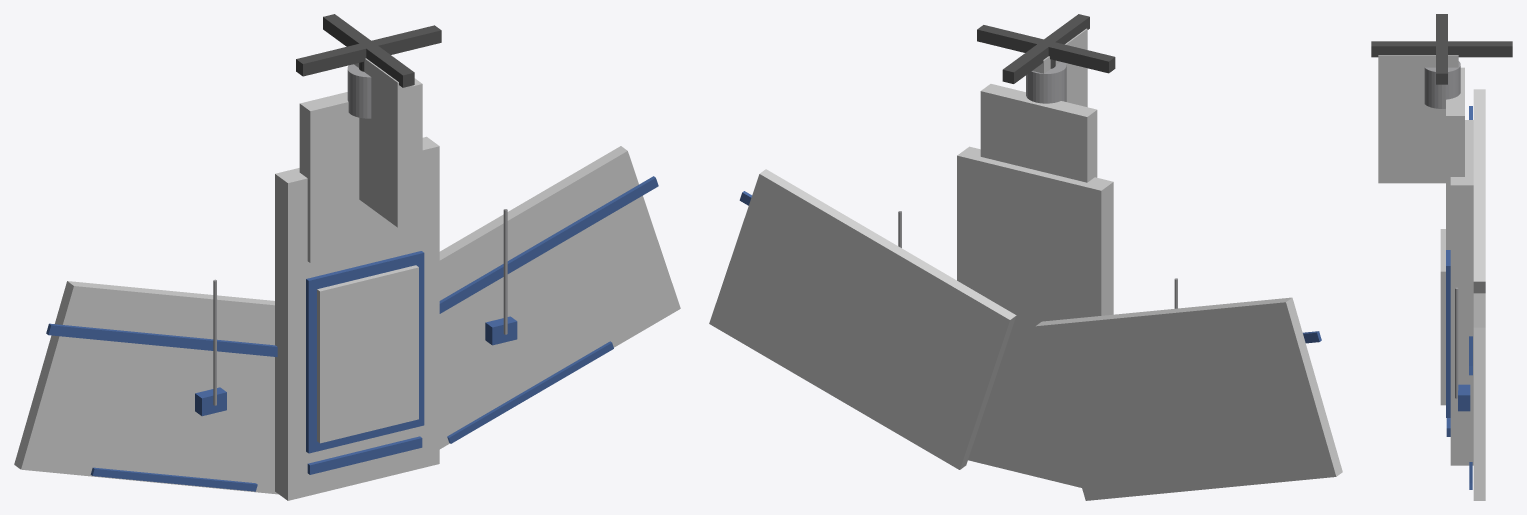
The model's file is rc_aircraft_3d_model.glb.
The picture shows the model from 3 angles, left to right: view 1: azimuth 30°, elevation 25°; view 2: azimuth 150°, elevation 25°; view 3: azimuth 270°, elevation 25°; orthographic projection. The views are drawn at different scales.
Parts seen in each view (by area): view 1: left_wing, right_wing, center_body, hatch_inner, rear_body, vertical_fin, hatch_frame, right_blue_trim, left_blue_trim, prop_blade_horizontal, prop_blade_vertical, right_control_trim (+4 smaller); view 2: right_wing, left_wing, center_body, rear_body, prop_blade_horizontal, prop_blade_vertical, motor, vertical_fin; view 3: vertical_fin, center_body, right_wing, left_wing, prop_blade_vertical, rear_body, motor, hatch_inner, prop_blade_horizontal, hatch_frame, linkage_220, servo_220.
Boxes of the visible parts, x1,y1,x2,y2 form: left_wing: (14,281,278,494); right_wing: (439,146,680,449); center_body: (275,136,439,500); hatch_inner: (317,265,418,443); rear_body: (299,78,422,263); vertical_fin: (354,58,412,227); hatch_frame: (306,251,424,453); right_blue_trim: (439,176,658,313); left_blue_trim: (46,323,277,356); prop_blade_horizontal: (296,25,441,76); prop_blade_vertical: (323,14,414,87); right_control_trim: (447,341,613,443); right_wing: (709,169,1016,469); left_wing: (1035,297,1342,500); center_body: (957,146,1113,487); rear_body: (980,84,1097,182); prop_blade_horizontal: (977,25,1115,73); prop_blade_vertical: (1002,14,1089,83); motor: (1026,62,1066,103); vertical_fin: (1032,28,1087,107); vertical_fin: (1378,55,1458,183); center_body: (1450,120,1473,465); right_wing: (1473,293,1485,500); left_wing: (1473,89,1485,293); prop_blade_vertical: (1371,41,1512,57); rear_body: (1446,67,1464,249); motor: (1424,61,1460,108); hatch_inner: (1440,229,1445,405); prop_blade_horizontal: (1436,14,1447,84); hatch_frame: (1446,250,1450,417); linkage_220: (1455,287,1458,398); servo_220: (1458,384,1470,411).
Bounding box in the file's own units: 1000 × 648 × 210.
